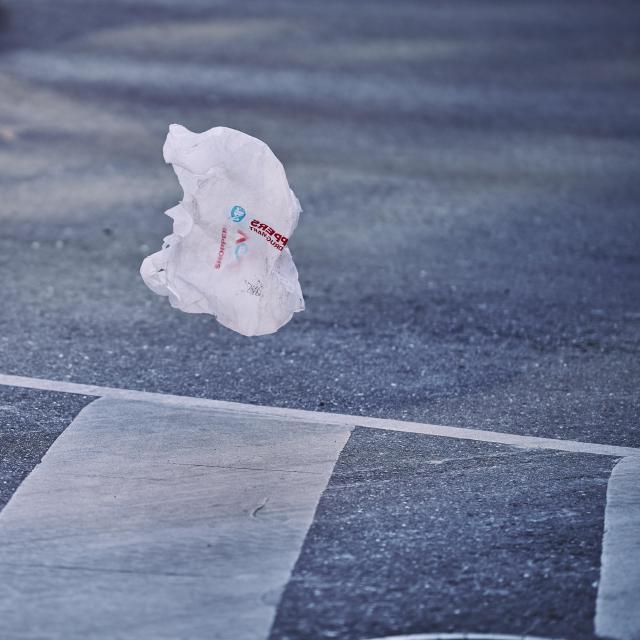Plastic_Bag: (140, 115, 317, 342)
